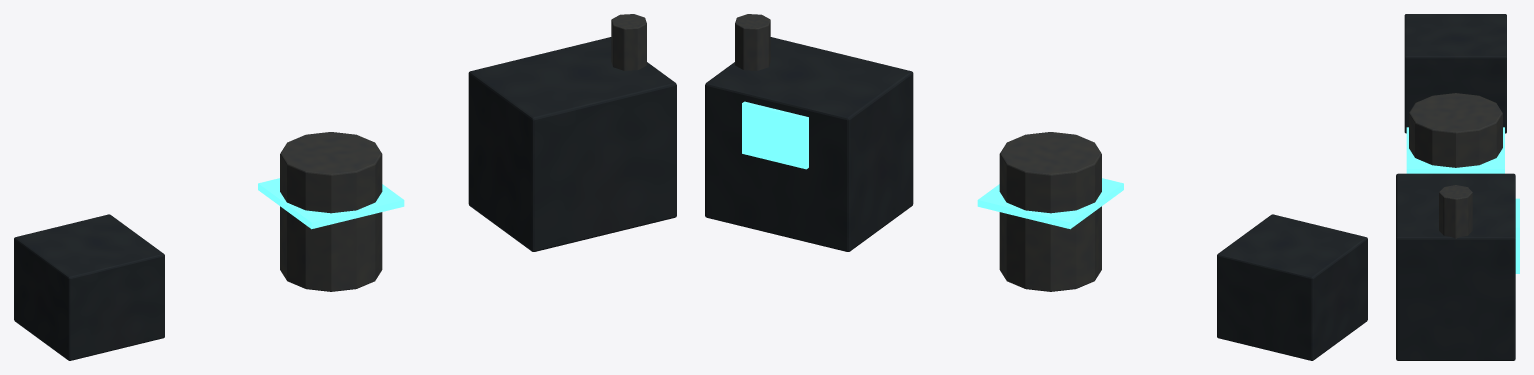
The model's file is interior_prop_kit_v3.glb.
The picture shows the model from 3 angles, left to right: view 1: azimuth 30°, elevation 25°; view 2: azimuth 150°, elevation 25°; view 3: azimuth 270°, elevation 25°; orthographic projection. The views are drawn at different scales.
Parts seen in each view (by area): view 1: G, C, D, Band, Pipes; view 2: G, C, D, Panel, Band, Pipes; view 3: G, C, D, Pipes, Band, Panel.
Part boxes in pixels (x1,y1,x2,y2): G: (468,37,676,251); C: (14,214,164,360); D: (280,132,382,291); Band: (258,178,404,229); Pipes: (611,14,646,70); G: (705,37,913,251); C: (1217,214,1367,360); D: (999,132,1101,291); Panel: (742,101,808,169); Band: (977,178,1123,229); Pipes: (735,14,770,70); G: (1396,173,1515,360); C: (1404,14,1506,133); D: (1409,93,1502,167); Pipes: (1439,185,1472,238); Band: (1406,127,1504,173); Panel: (1515,198,1519,273).
Bounding box in the file's own units: 7.5 × 2.1 × 1.45.
3 materials, 3 textured.
